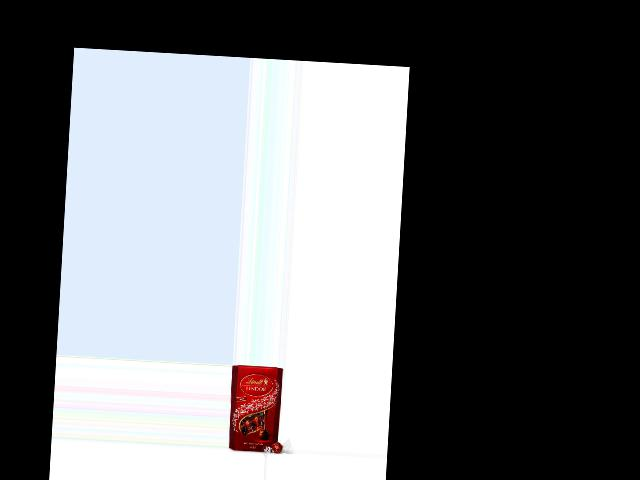chocolate: (228, 365, 288, 453)
